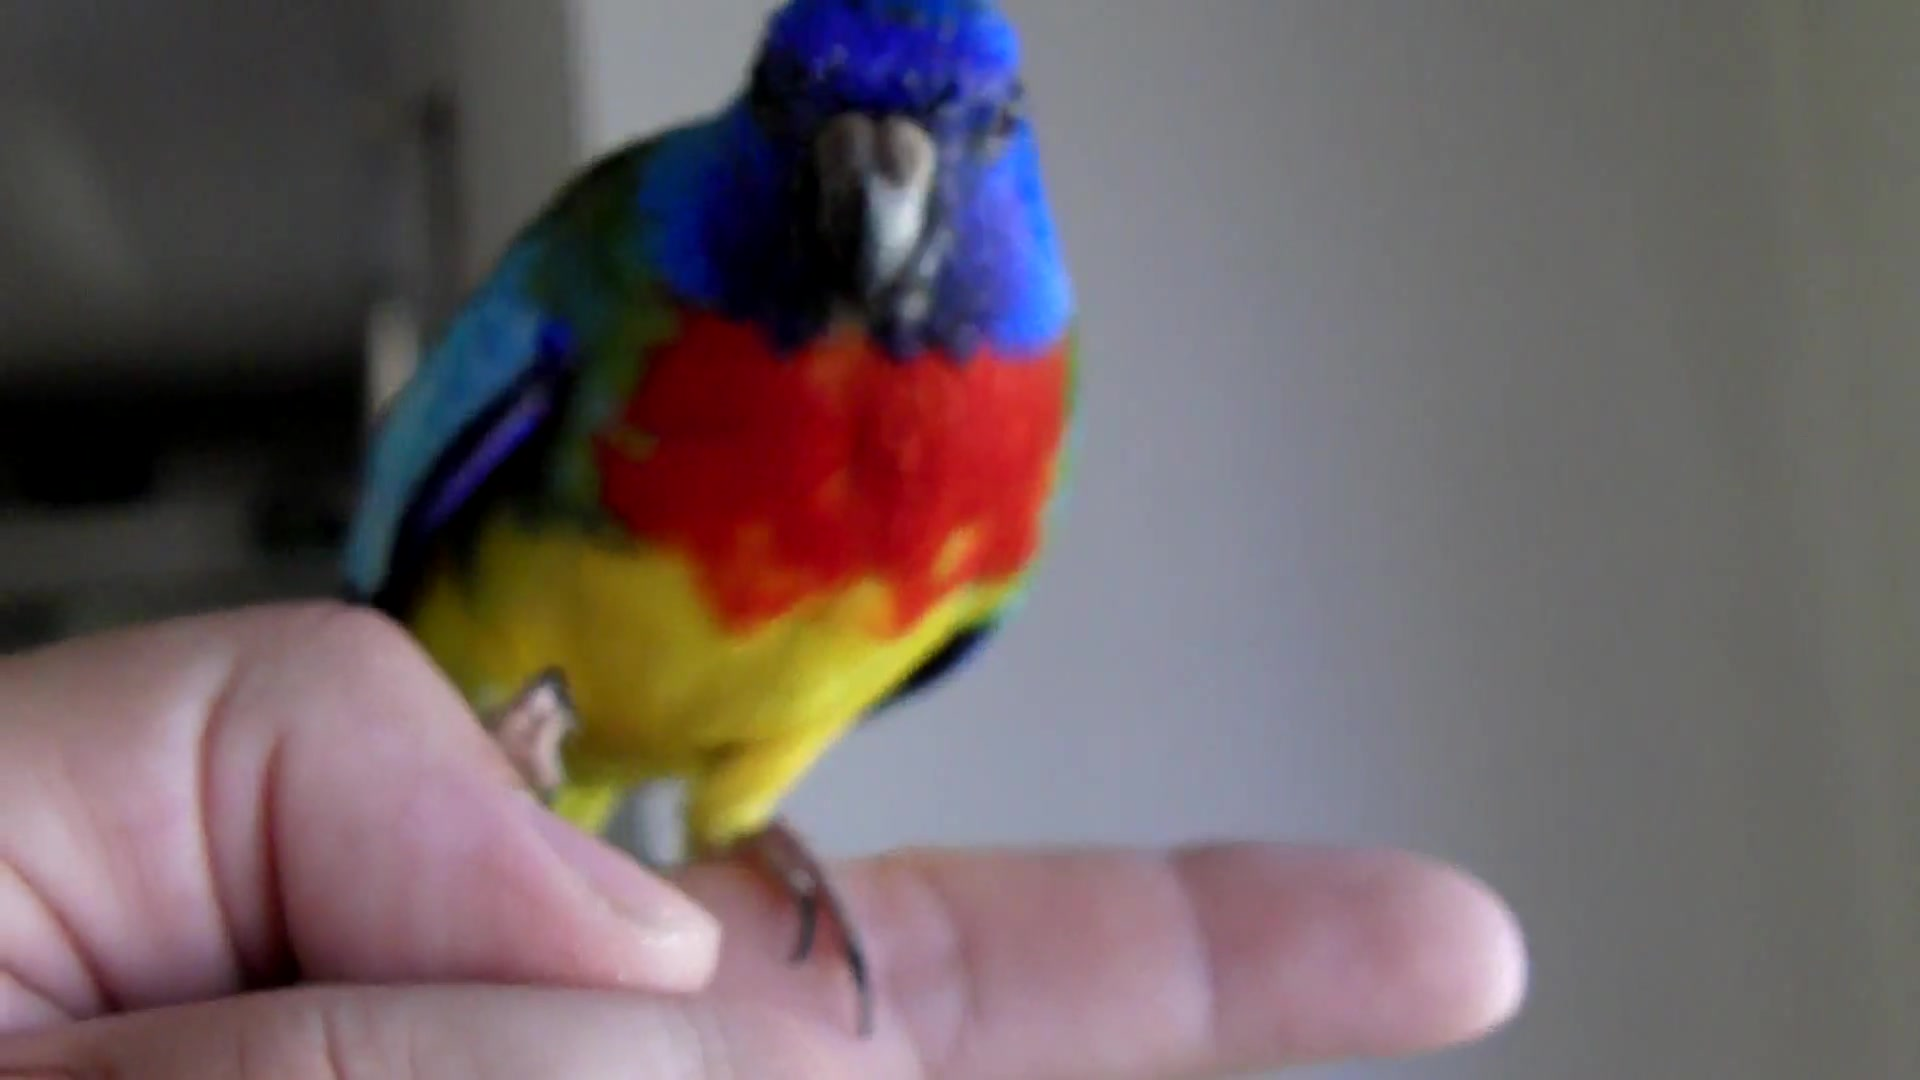bird: (347, 4, 1079, 1040)
